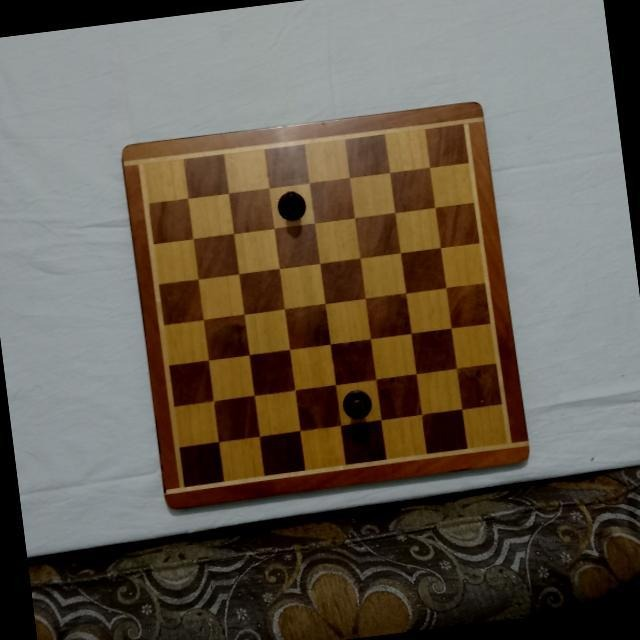black-bishop: (274, 187, 309, 223), (338, 386, 374, 421)
